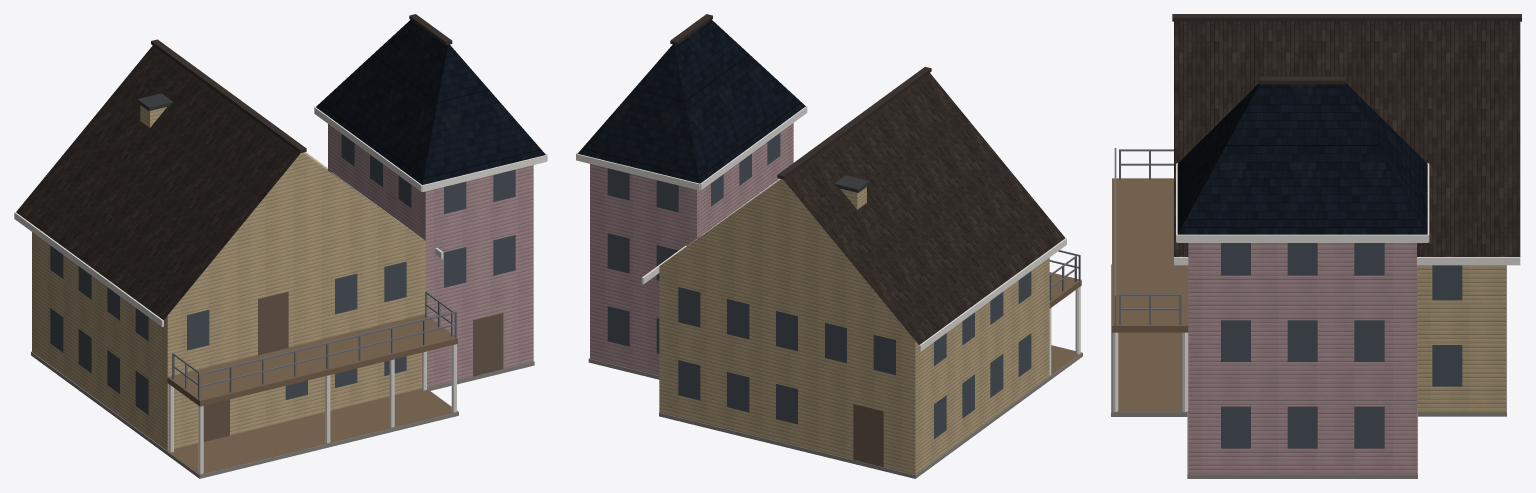
Rendered from ns-victorian.towns-v1.lod1.glb.
3 renders of one model, left to right at view 1: azimuth 30°, elevation 25°; view 2: azimuth 150°, elevation 25°; view 3: azimuth 270°, elevation 25°, orthographic. The views are drawn at different scales.
Parts seen in each view (by area): view 1: ns-victorian; view 2: ns-victorian; view 3: ns-victorian.
Boxes of the visible parts, box(x1,y1,x2,y2) form: ns-victorian: box(14, 14, 547, 478); ns-victorian: box(576, 14, 1082, 478); ns-victorian: box(1111, 14, 1521, 478).
Size of the model in its own units: 16.48 by 12.81 by 12.93.
Materials: 4 (3 with a texture image).
